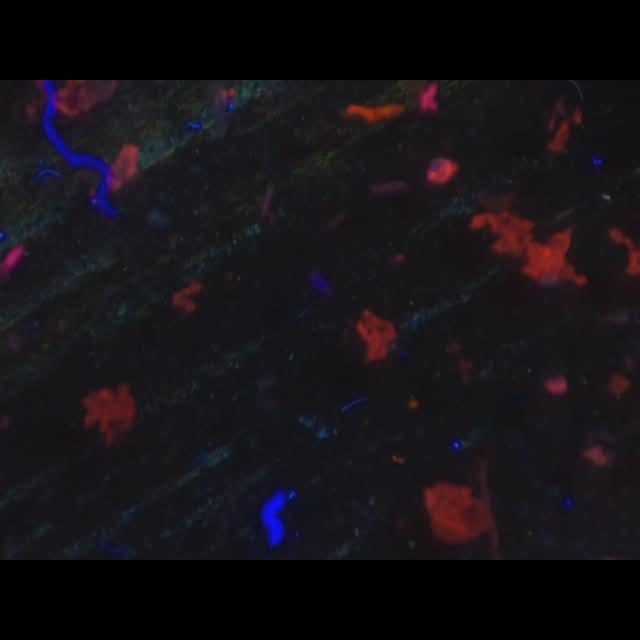Fragment: (82, 383, 136, 445)
